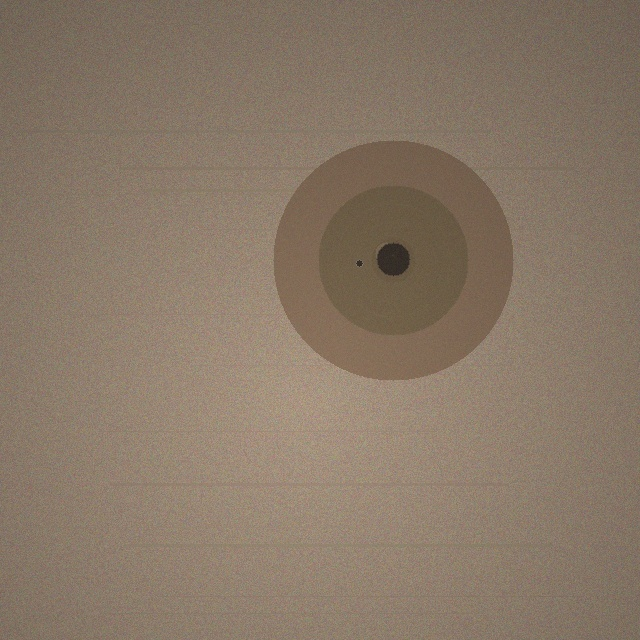shrinkage: (273, 140, 513, 380)
